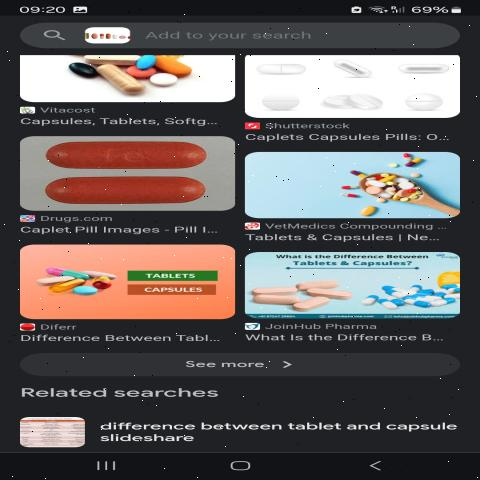Pill: (40, 168, 217, 209), (27, 138, 233, 171), (311, 86, 386, 116), (389, 61, 480, 82), (403, 85, 456, 118), (238, 60, 312, 81), (255, 87, 303, 118), (249, 281, 306, 301), (334, 56, 372, 82), (256, 287, 300, 309), (300, 287, 361, 302), (151, 73, 184, 94)
